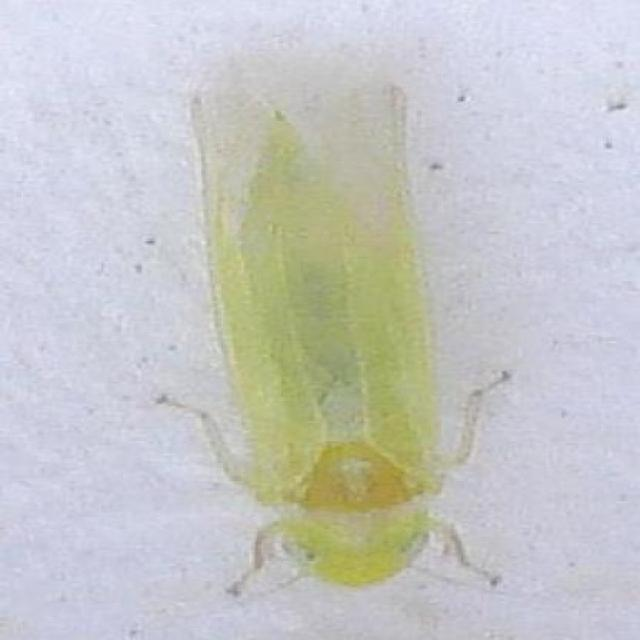green-leafhopper: (151, 97, 515, 595)
